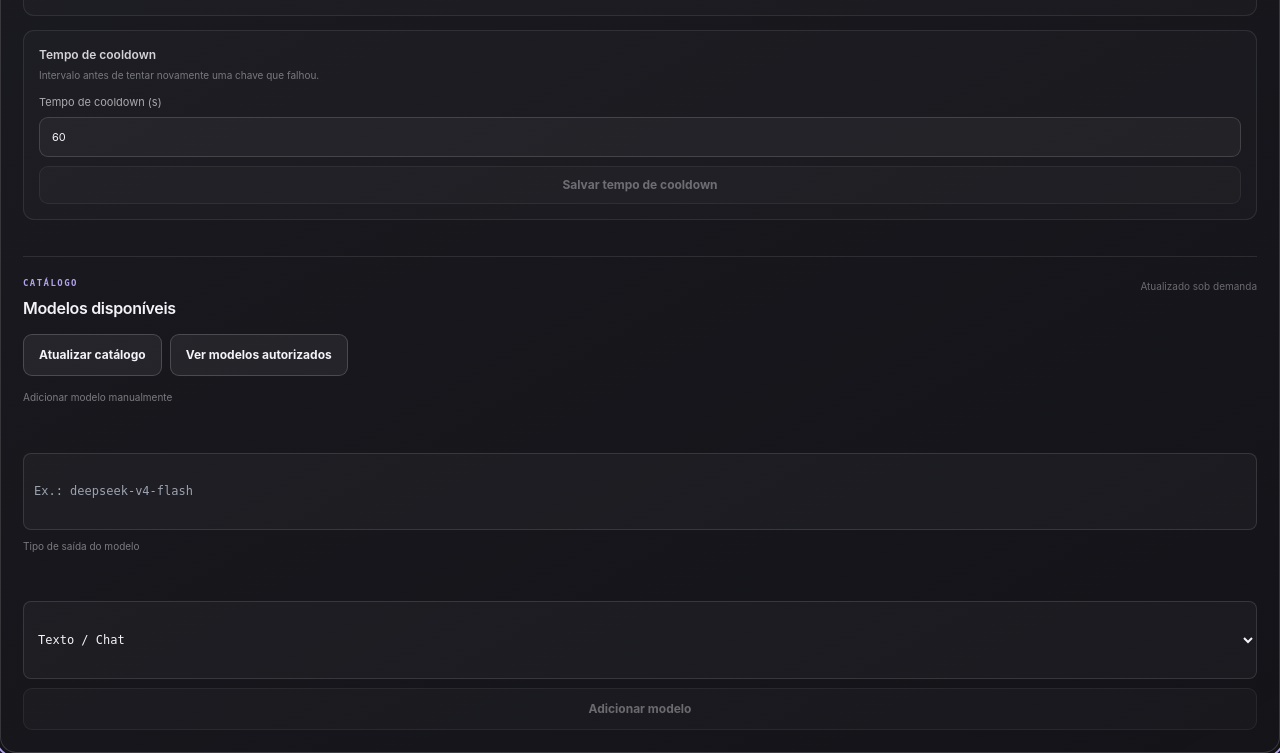
Scenario: ProviderDetail › exposes a catalog refresh control for Ollama, since it has no standard form to host one
(page scrolled)
Click the button "Atualizar catálogo" at (92, 355), box [23, 334, 162, 376]
(page scrolled)
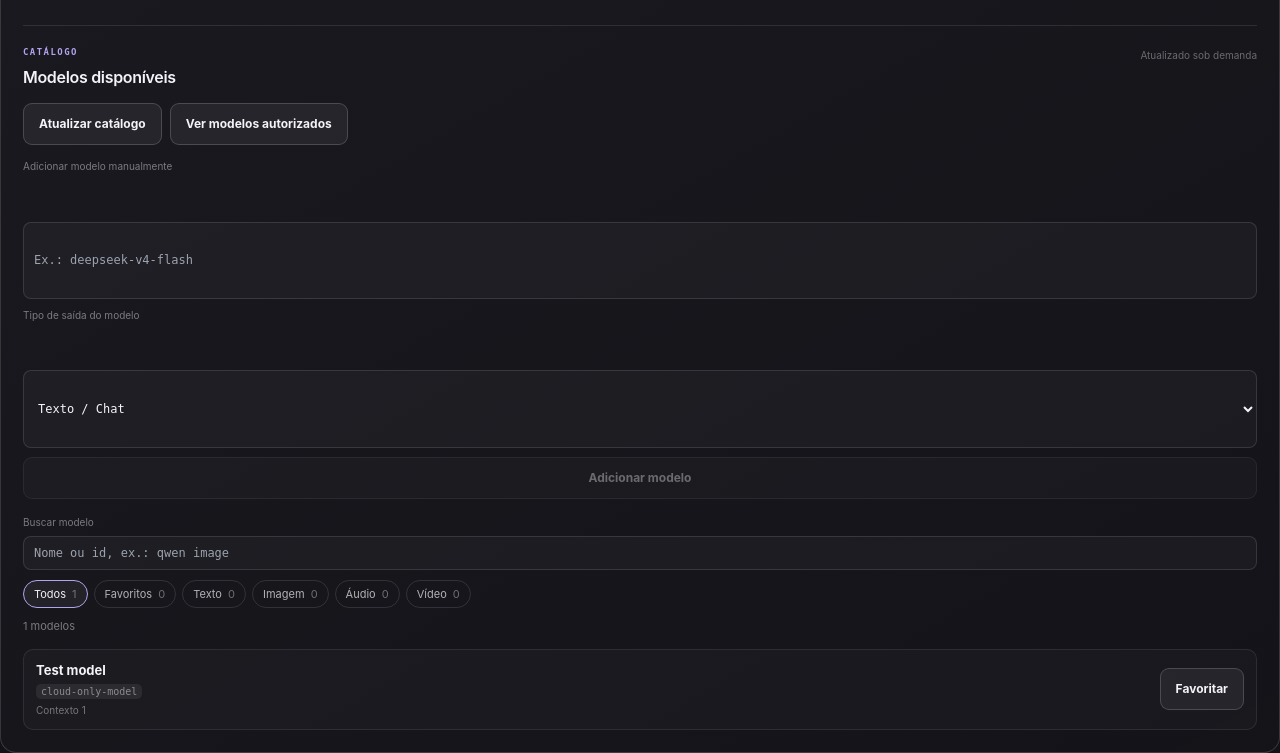
Expected: the text "cloud-only-model" is shown, [36, 684, 142, 699]
